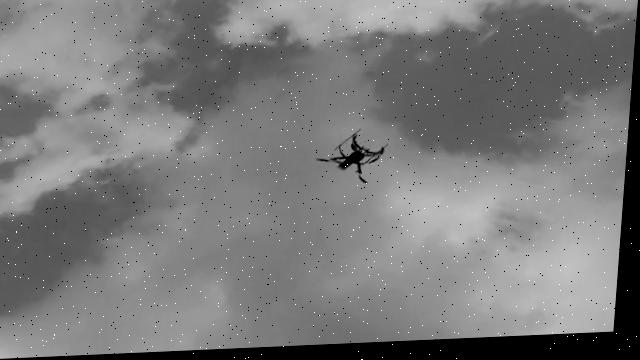drone: (315, 133, 392, 192)
